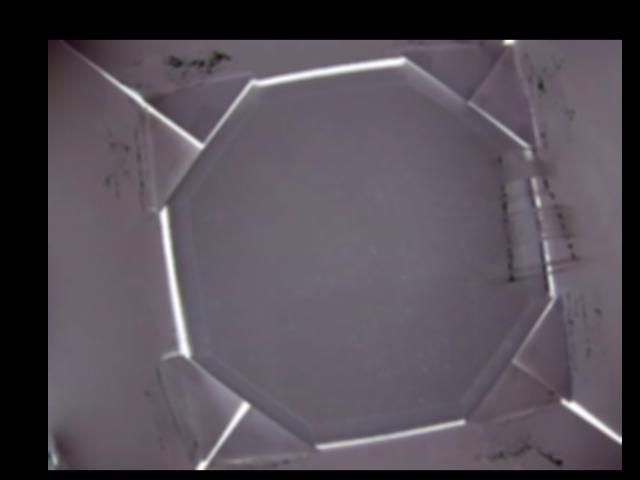Cup: (482, 147, 586, 287)
